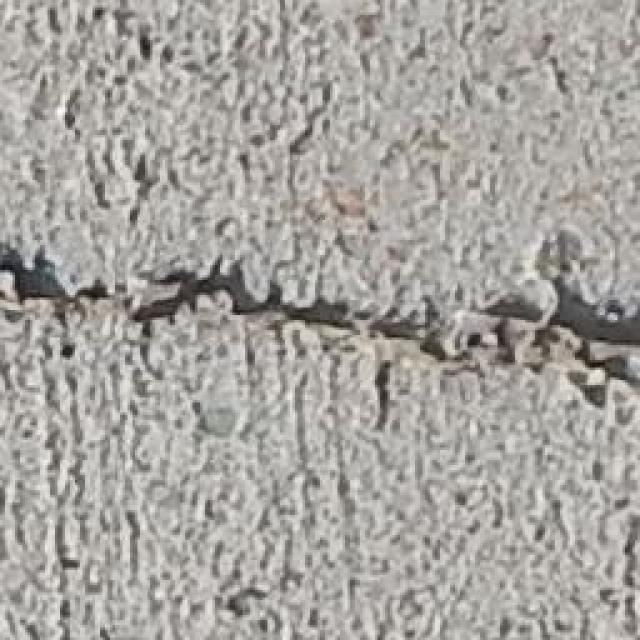concrete-crack: (0, 233, 640, 419)
